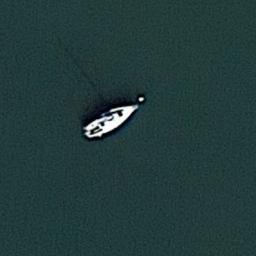boat: (80, 102, 143, 139)
